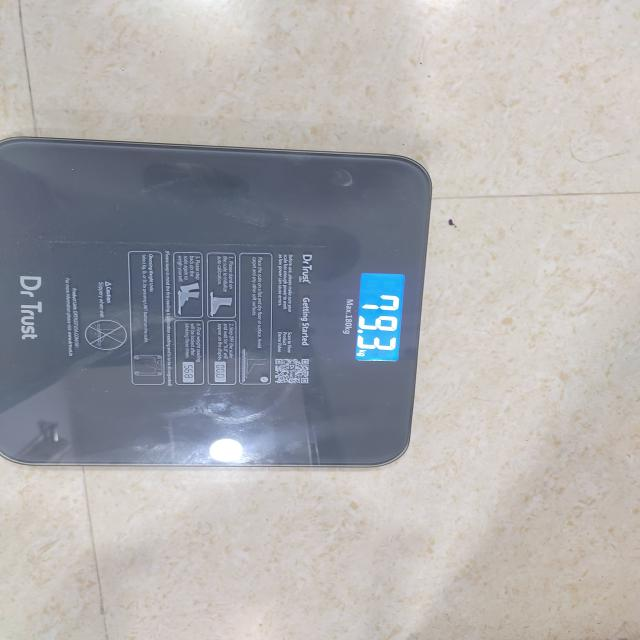ws: (0, 140, 433, 472)
